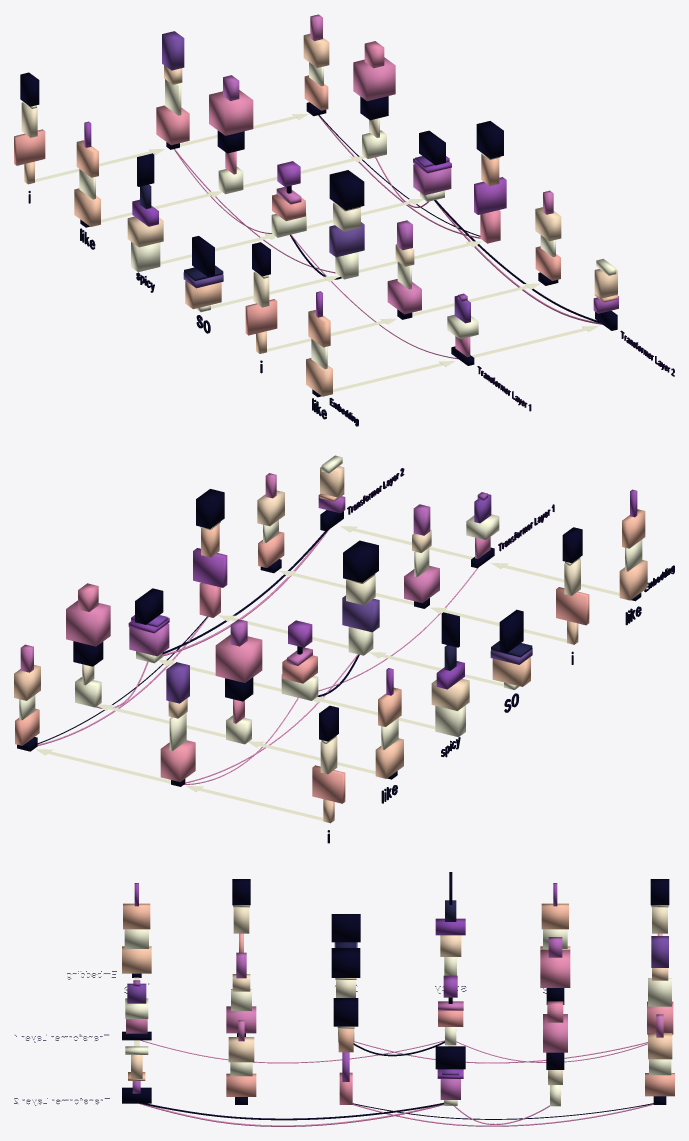
The model's file is forward-complete.gltf.
The picture shows the model from 3 angles, top to bottom: view 1: azimuth 30°, elevation 25°; view 2: azimuth 150°, elevation 25°; view 3: azimuth 270°, elevation 25°; orthographic projection. The views are drawn at different scales.
Parts seen in each view (by area): view 1: Renderer Node; view 2: Renderer Node; view 3: Renderer Node.
Boxes of the visible parts, left/top/right/bottom form: Renderer Node: left=14, top=14, right=674, bottom=426; Renderer Node: left=14, top=455, right=674, bottom=843; Renderer Node: left=14, top=872, right=674, bottom=1126.
Bounding box in the file's own units: 11 × 4.65 × 22.11.
